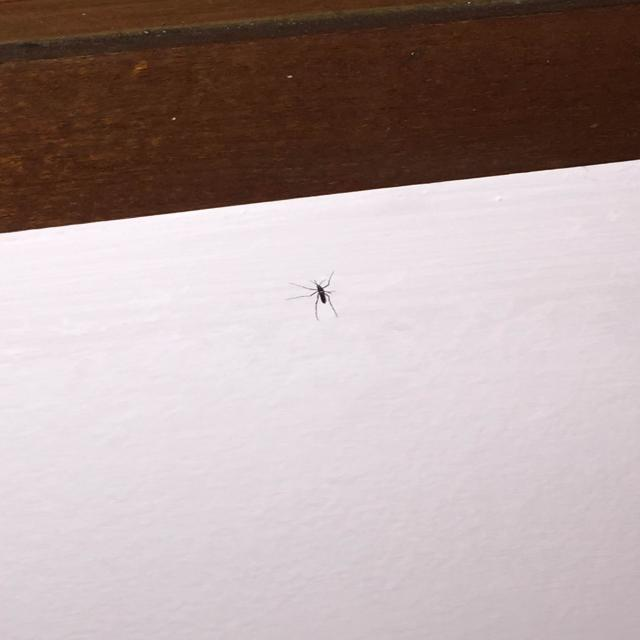albopictus: (286, 268, 344, 320)
